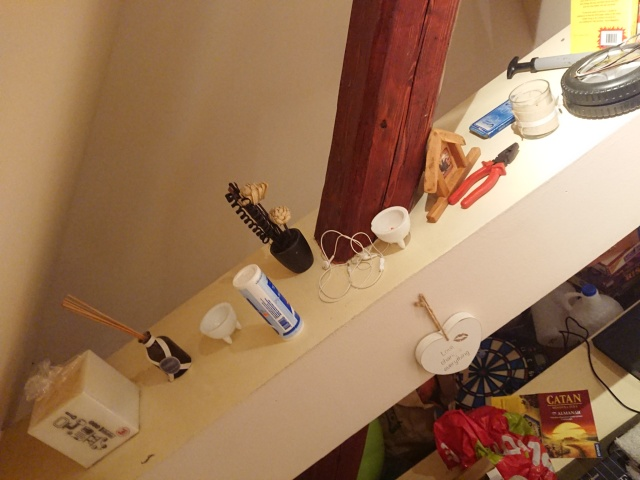Solana Pag Fine Sea Salt 250g: (230, 262, 306, 343)
